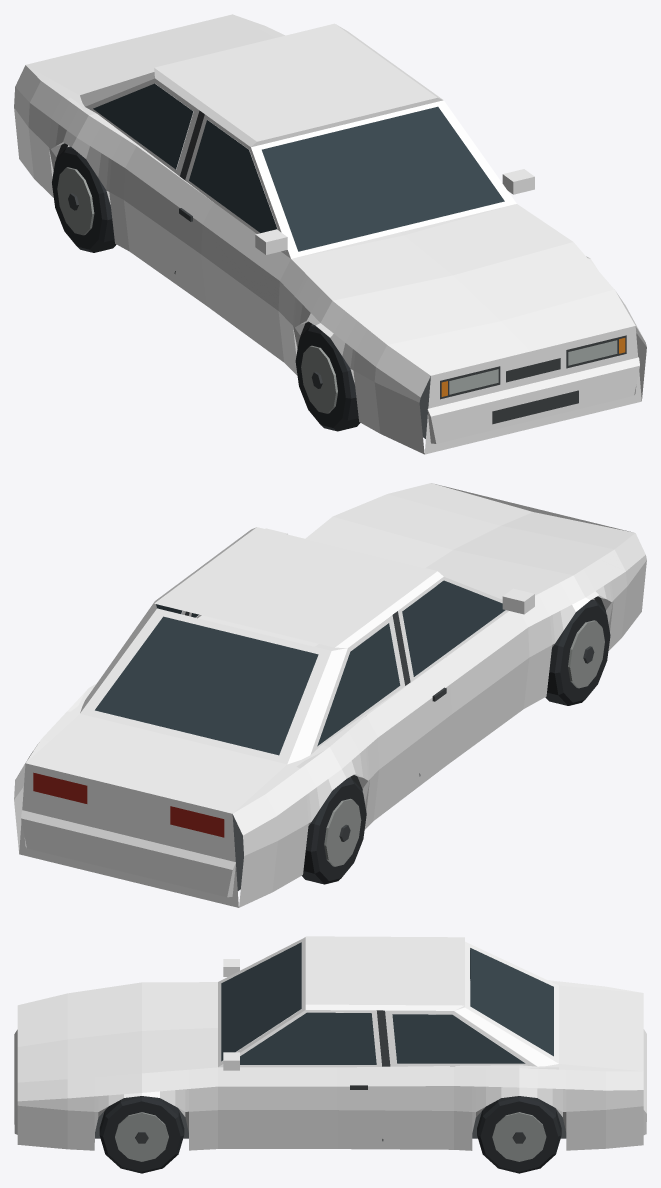
Rendered from kanaya_shinonome_sx.glb.
The picture shows the model from 3 angles, top to bottom: view 1: azimuth 30°, elevation 25°; view 2: azimuth 150°, elevation 25°; view 3: azimuth 270°, elevation 25°; orthographic projection. The views are drawn at different scales.
Parts seen in each view (by area): view 1: kanaya_shinonome_sx; view 2: kanaya_shinonome_sx; view 3: kanaya_shinonome_sx.
Part boxes in pixels (box(x1,y1,x2,y2)): kanaya_shinonome_sx: box(14, 14, 646, 454); kanaya_shinonome_sx: box(14, 483, 646, 907); kanaya_shinonome_sx: box(14, 936, 646, 1173).
Size of the model in its own units: 1.79 by 1.24 by 4.61.
8 materials, 1 textured.
